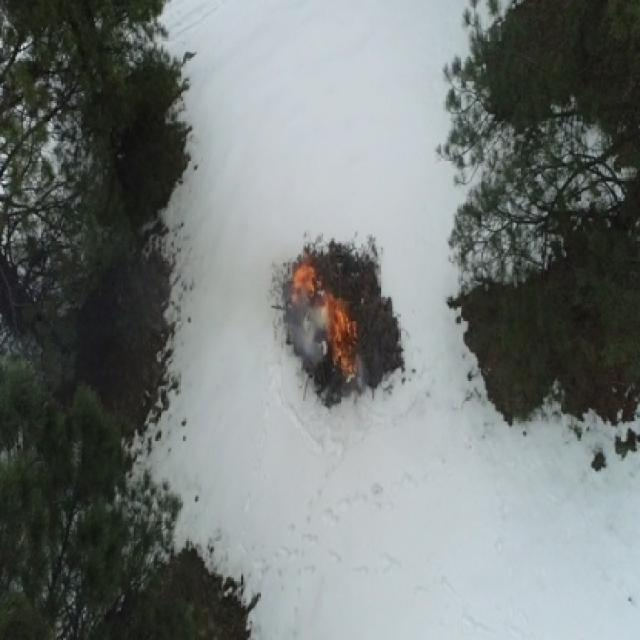Fire: (272, 231, 403, 406), (329, 296, 355, 339), (332, 338, 358, 373), (292, 265, 319, 294)
